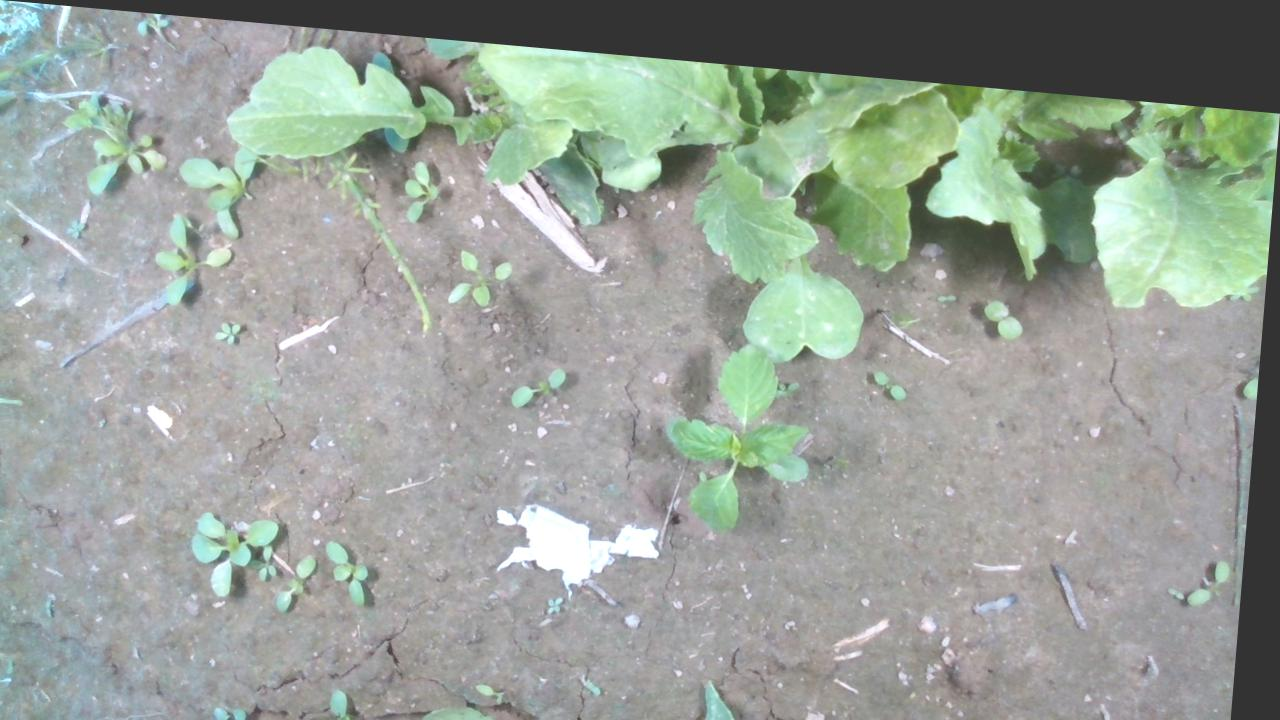weed: (448, 236, 516, 301), (329, 531, 381, 600), (401, 149, 445, 217), (514, 352, 572, 400), (284, 543, 326, 608), (1194, 533, 1236, 584), (983, 278, 1029, 322), (876, 353, 914, 385), (216, 315, 246, 343), (220, 698, 258, 719), (484, 670, 517, 694), (66, 215, 90, 239), (554, 582, 571, 605), (1173, 562, 1193, 578), (938, 274, 961, 287)
